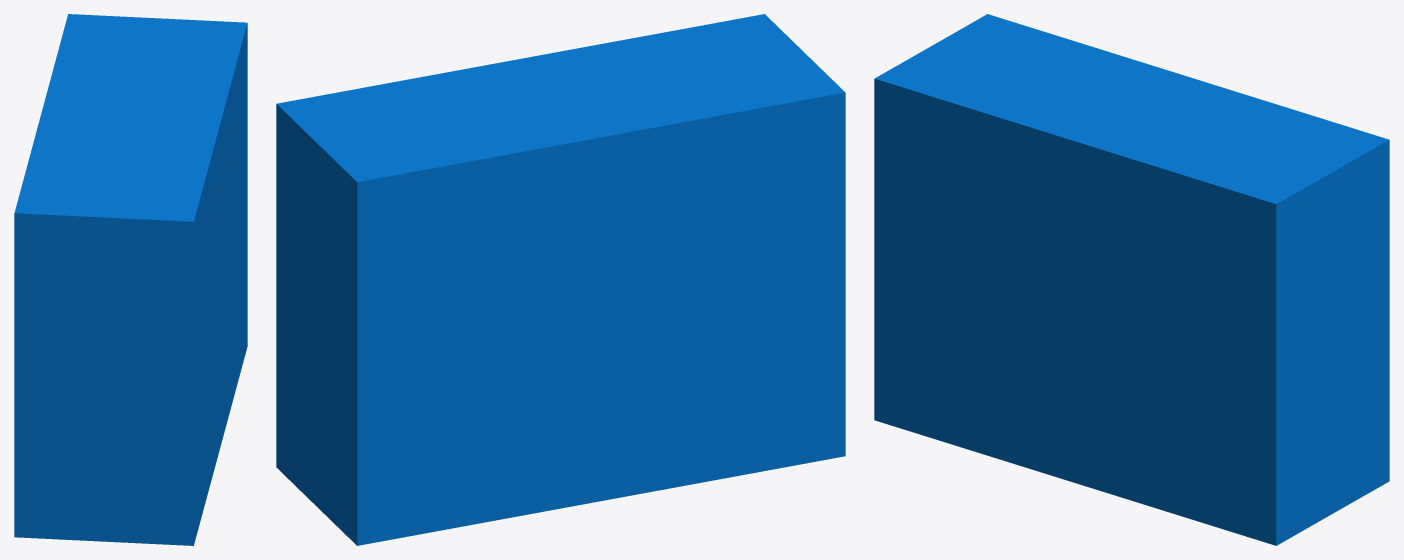
Rendered from Palma_T2.fbx.
The picture shows the model from 3 angles, left to right: view 1: azimuth 30°, elevation 25°; view 2: azimuth 150°, elevation 25°; view 3: azimuth 270°, elevation 25°; orthographic projection. The views are drawn at different scales.
Parts seen in each view (by area): view 1: Cube__48_; view 2: Cube__48_; view 3: Cube__48_.
Boxes of the visible parts, x1=… form: Cube__48_: x1=14, y1=14, x2=247, y2=545; Cube__48_: x1=276, y1=14, x2=845, y2=545; Cube__48_: x1=874, y1=14, x2=1389, y2=545.
Size of the model in its own units: 3359 by 2811 by 3842.
